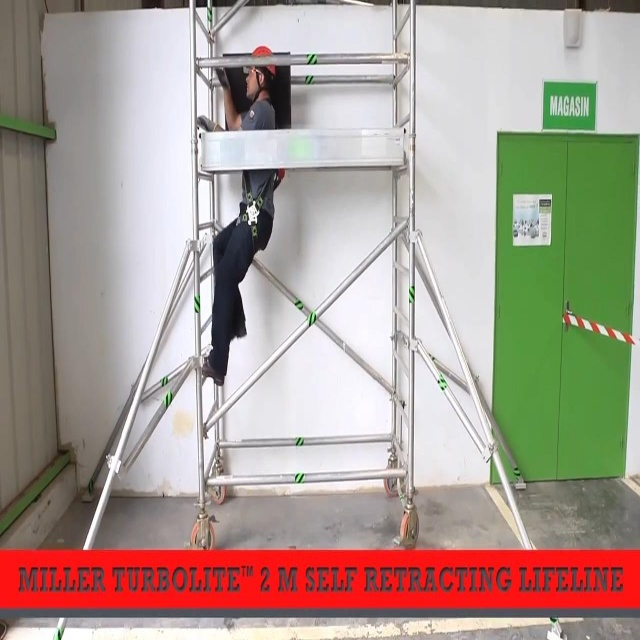Arnes_seguridad: (233, 169, 282, 252)
